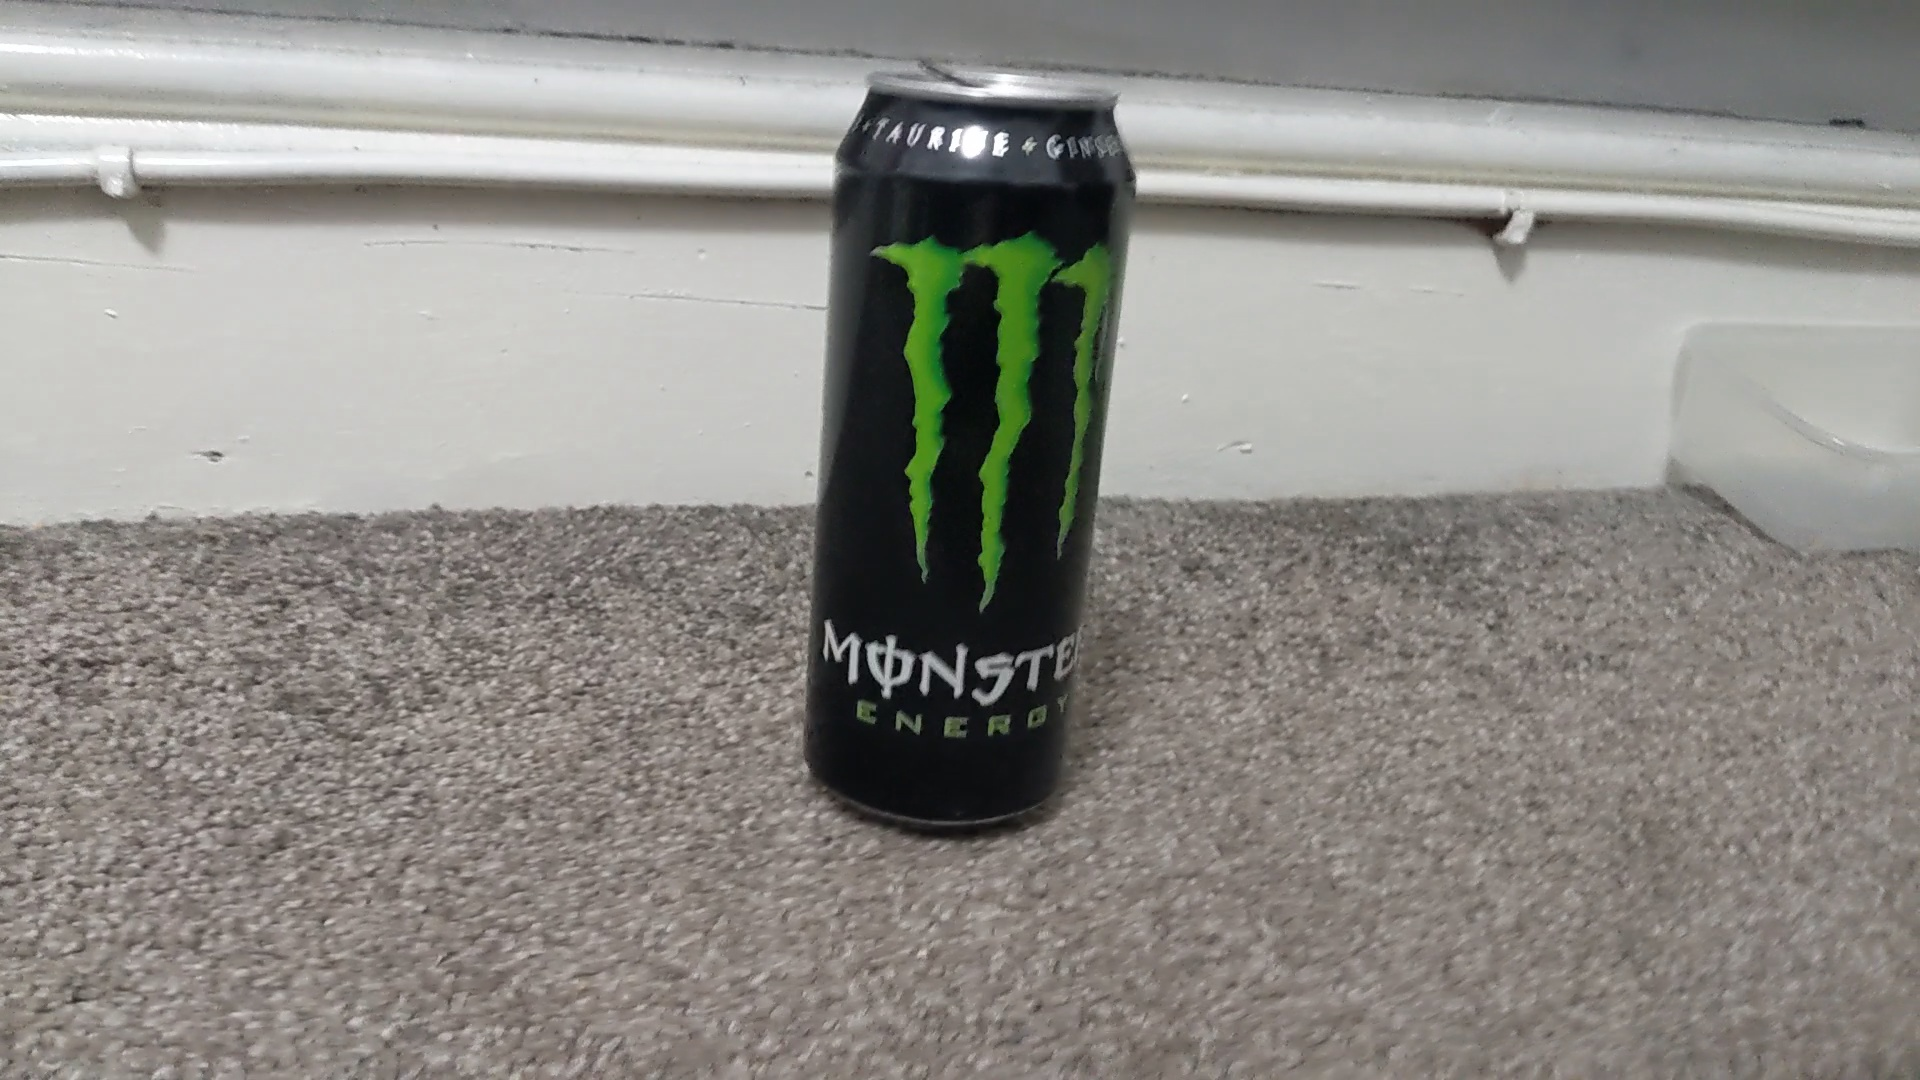monster-original: (800, 73, 1141, 832)
